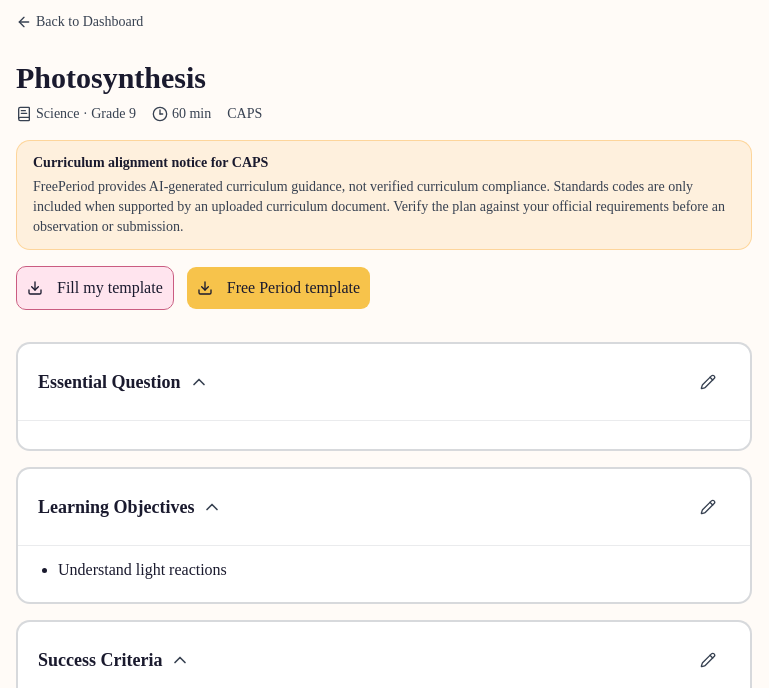
Test case: LessonView › shows inline export error when download fails
The image size is (769, 688).
Click the button "Free Period template" at (278, 288), box [186,266,371,310]
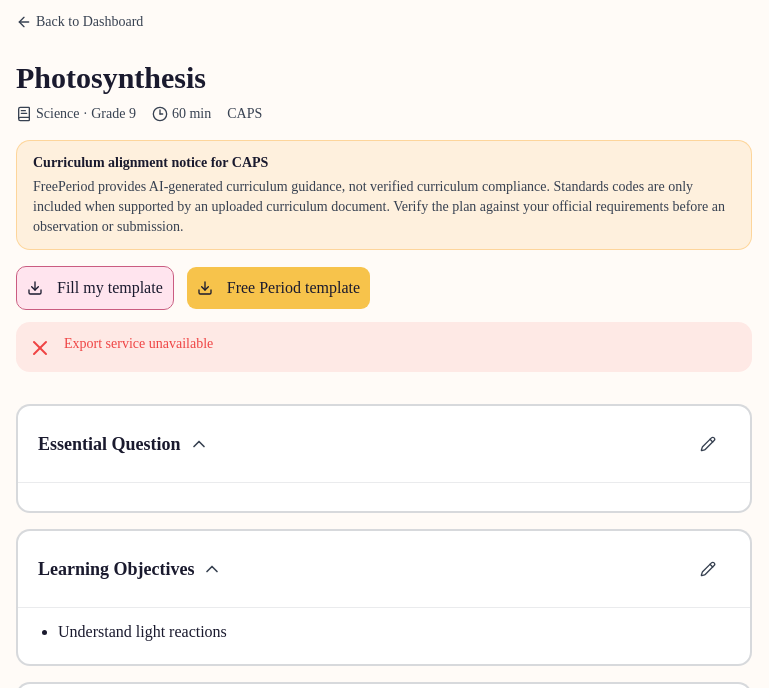
Now the message reads "Export service unavailable", box [64,336,213,351]
